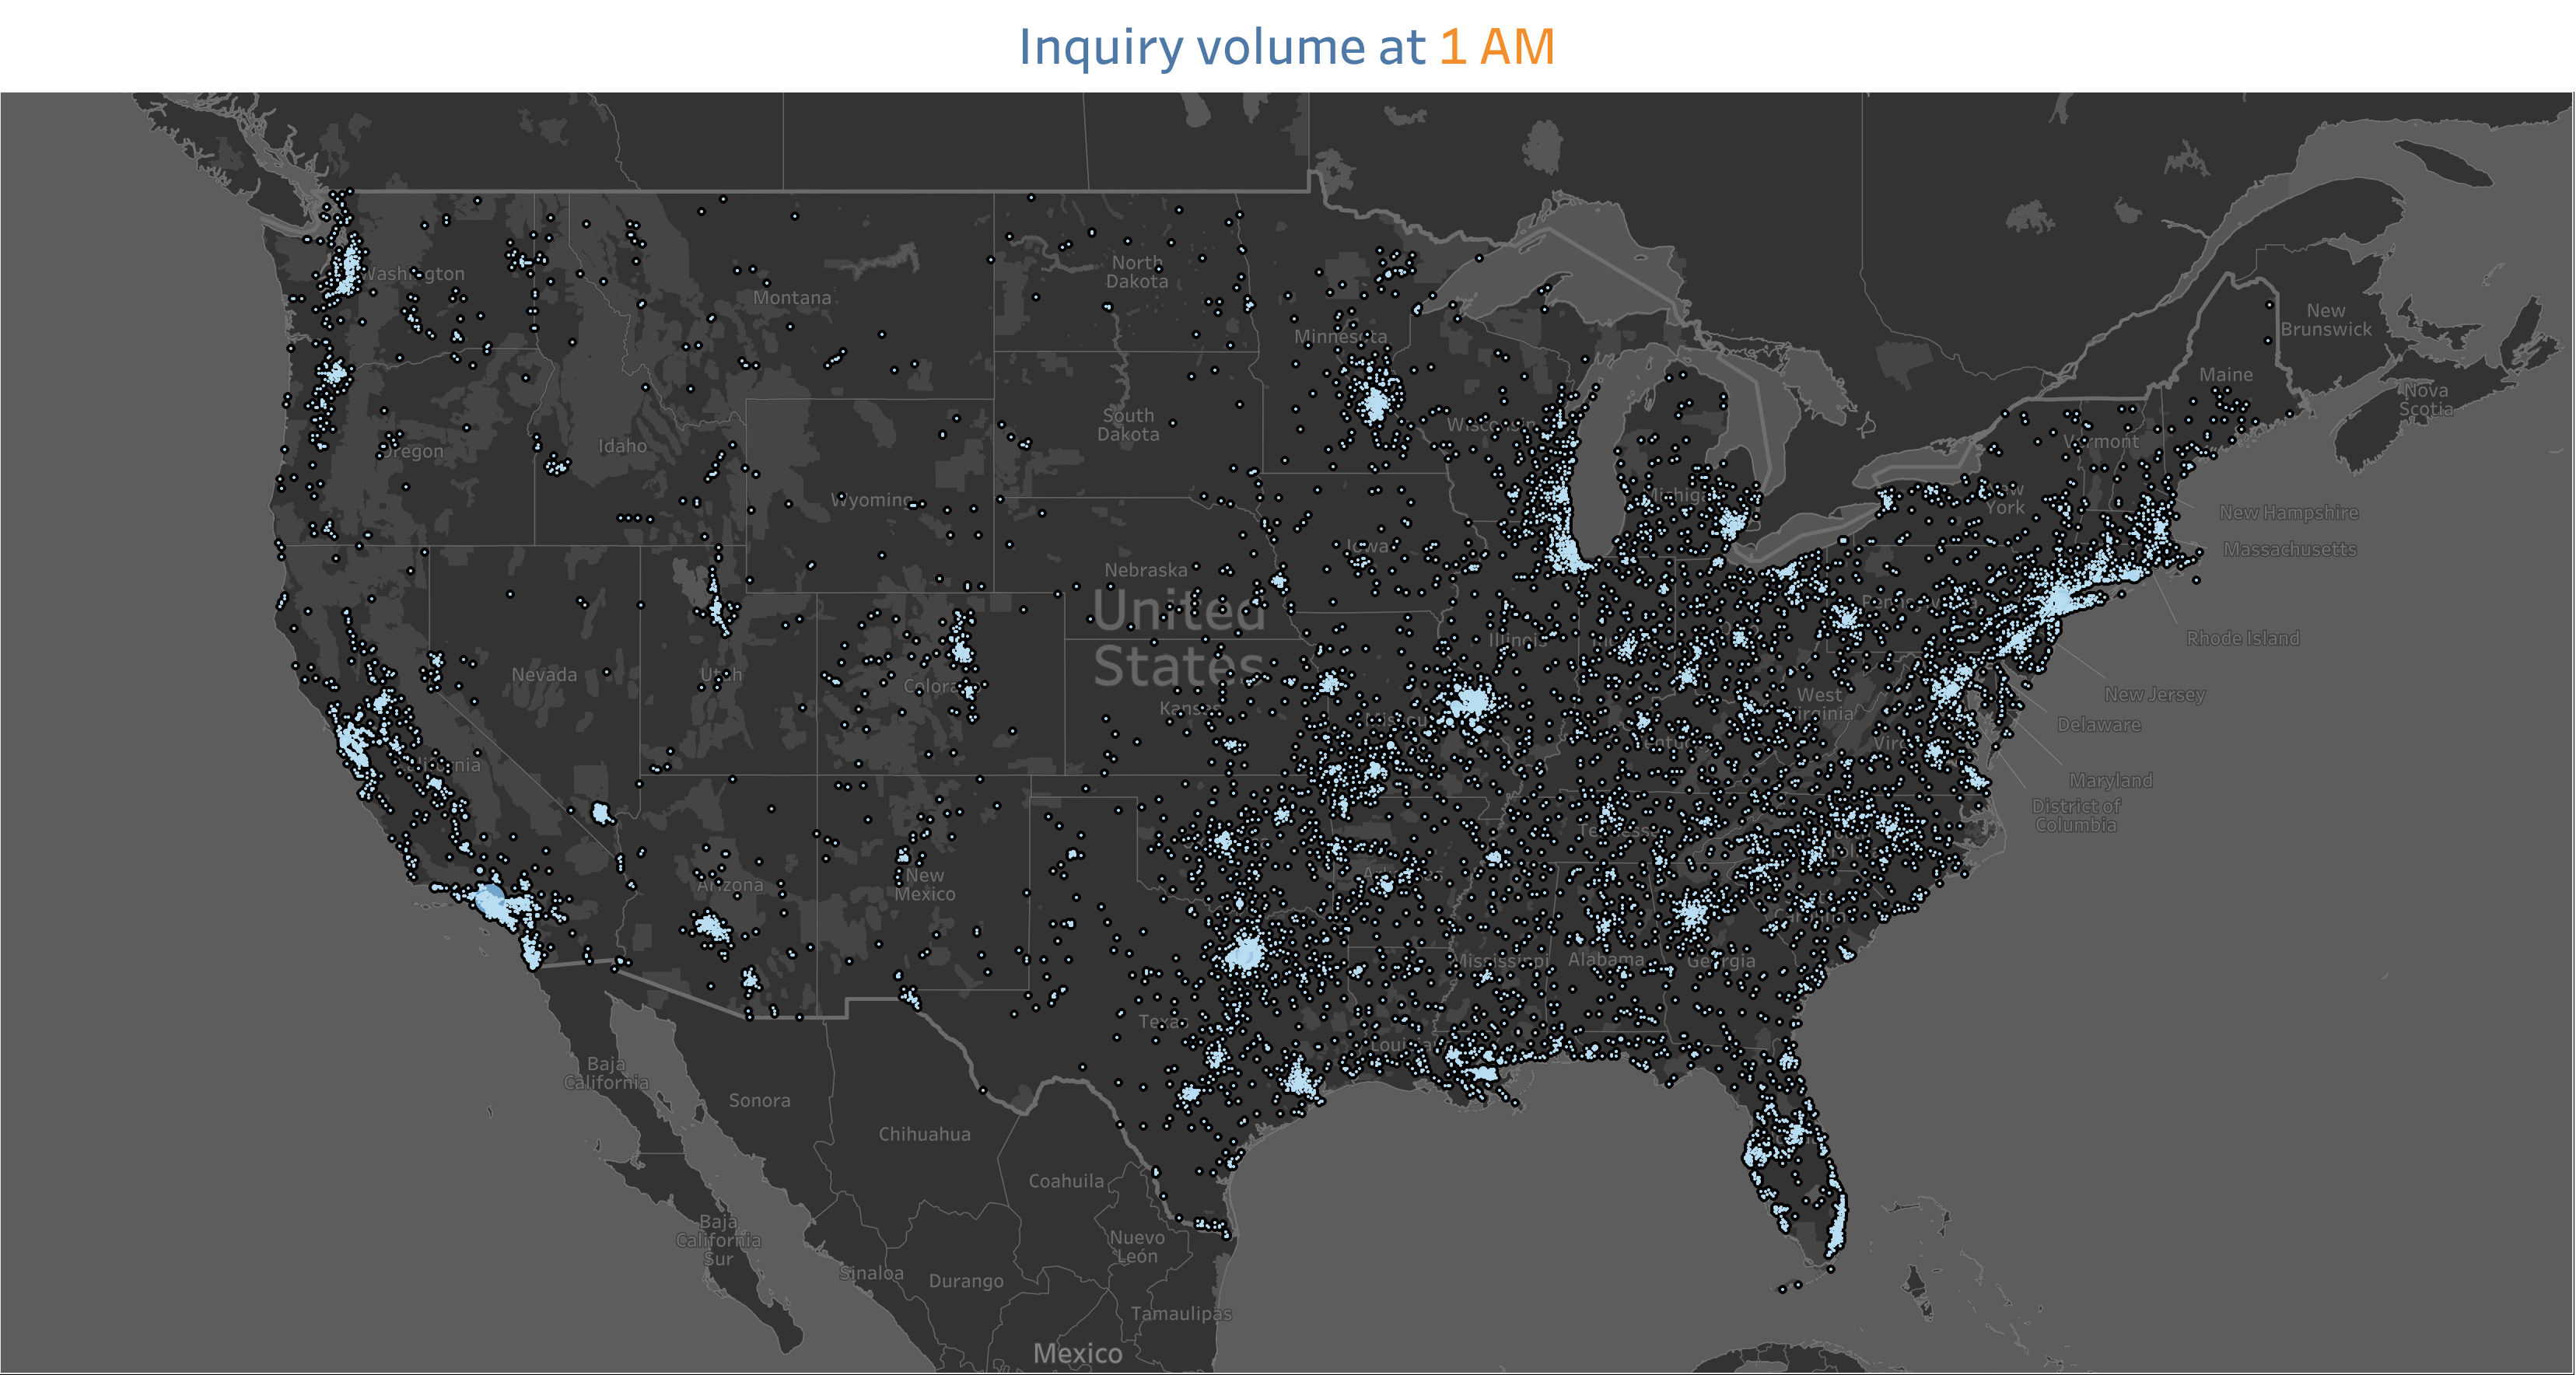

What the dashboard file says about the page in this screenshot:
{"tool":"tableau","page":{"name":"Dashboard 1","canvas":[1000,1000],"units":"permille","ordinal":0},"visuals":[{"type":"worksheet","title":"Sheet 1","mark":"Automatic","box":[4.7,8.8,990.6,982.3]},{"type":"currpage","title":"Sheet 1","box":[883,30.9,87.8,105]}]}

Visuals, with their boxes on the dashboard's canvas, which has no fixed pixel size, in thousandths of its width and height (x1, y1, x2, y2). These are canvas units, not pixel positions in the 2576x1375 screenshot, which may show the page scaled, cropped or inside an application window:
"Sheet 1" worksheet: left=5, top=9, right=995, bottom=991
"Sheet 1" currpage: left=883, top=31, right=971, bottom=136
